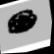correct: (0, 3, 46, 45)
